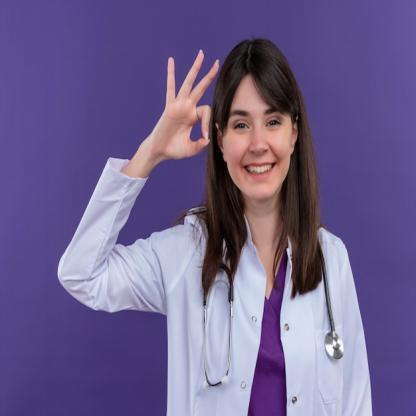ok: (160, 51, 220, 160)
